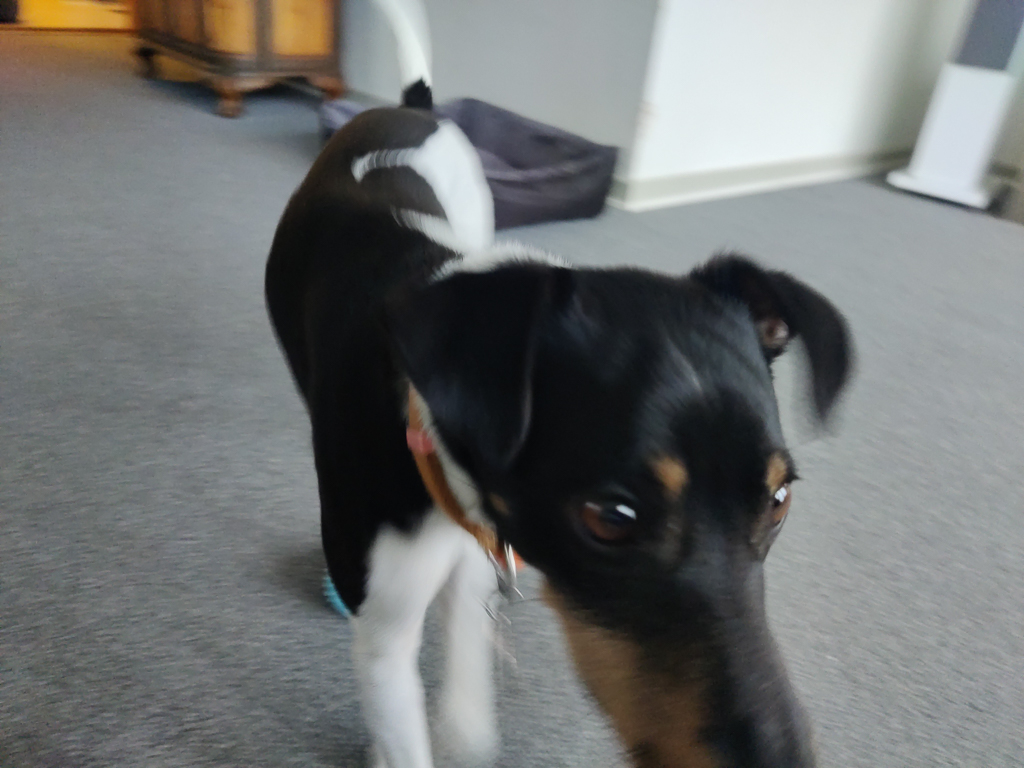Dog: (241, 0, 876, 768)
